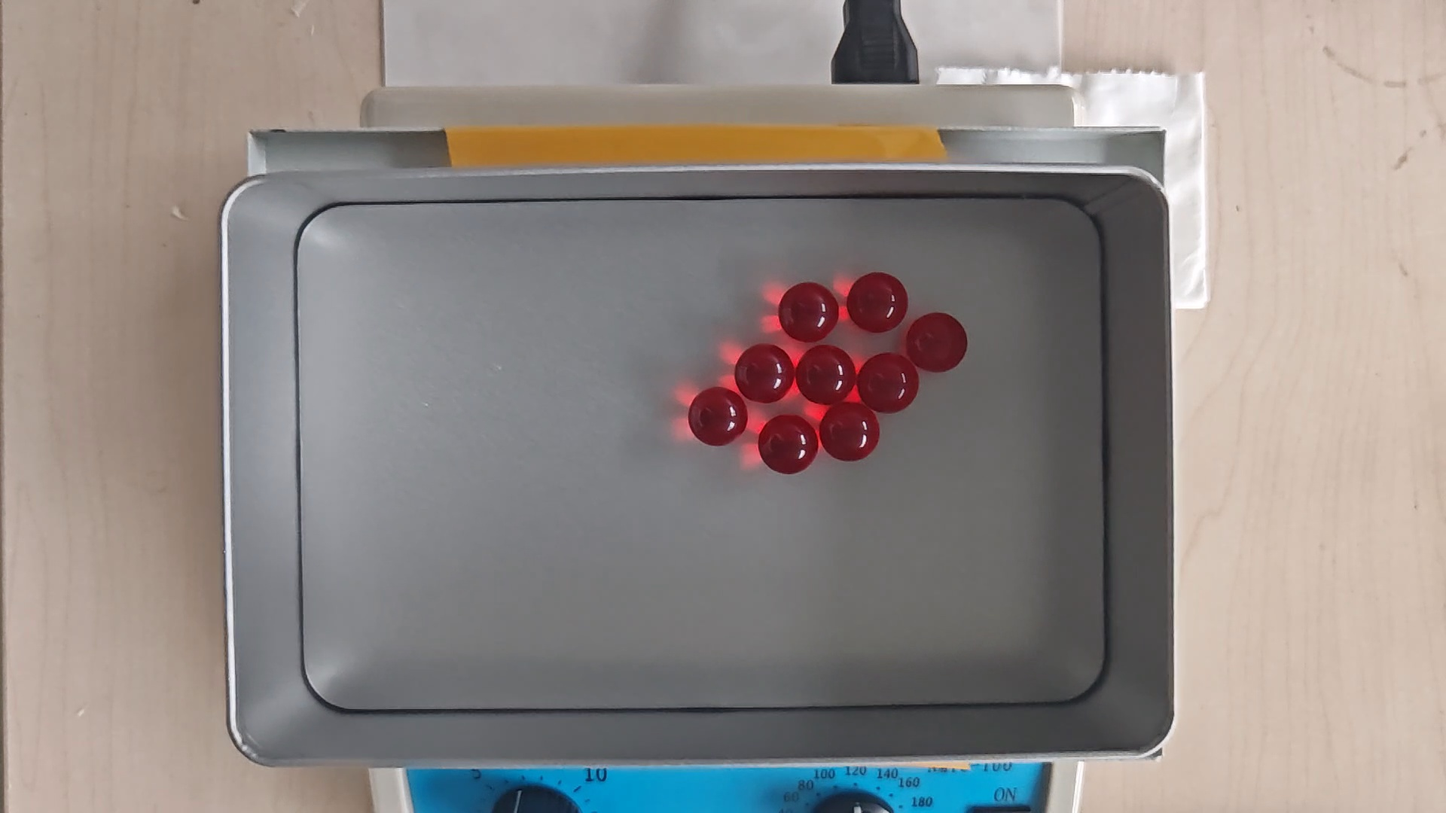ball: (904, 312, 968, 376), (856, 353, 920, 416), (845, 271, 907, 336), (819, 400, 881, 464), (795, 343, 857, 406), (757, 413, 819, 475), (779, 282, 839, 346), (687, 386, 746, 448), (735, 344, 794, 406)
container: (297, 192, 1107, 708)
